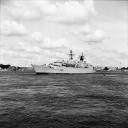Fragata: (31, 48, 98, 77)
